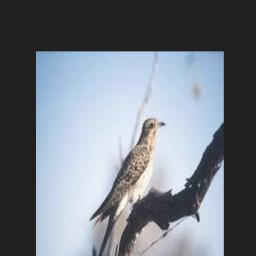Cuckoo: (89, 118, 165, 256)
